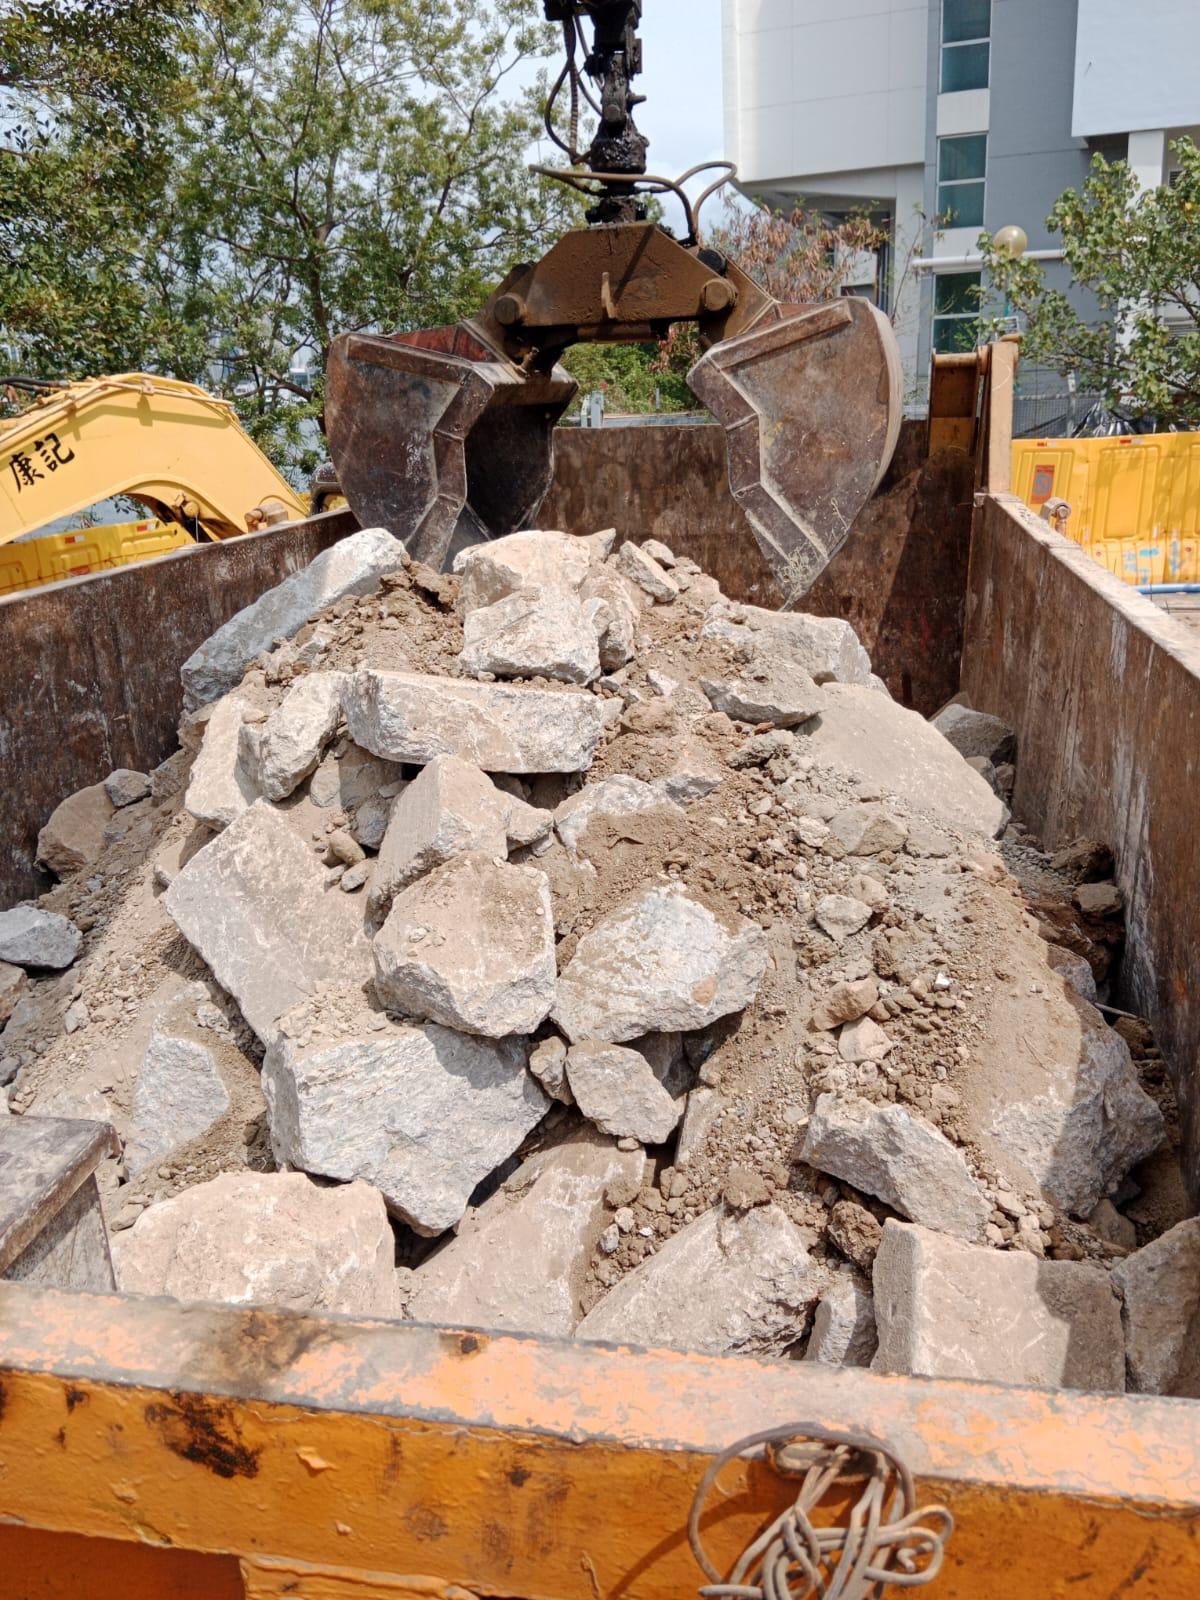dry: (30, 525, 1113, 1390)
